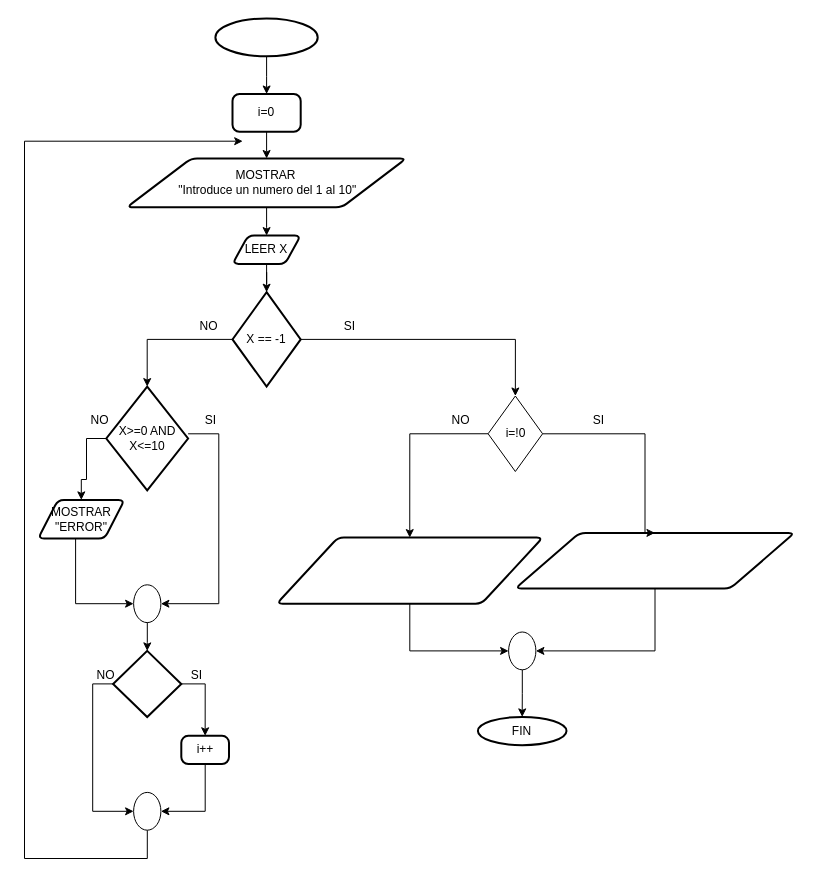
The diagram is 813 pixels wide and 884 high, and some of its shapes have lost their labels. The centre of each missing label's shape, as x and y in pixels:
INICIO: (x=266, y=37)
MOSTRAR "No se ha escrito el numero 10 al menos una vez": (x=409, y=570)
MOSTRAR "Se ha escrito el numero 10 al menos una vez": (x=654, y=560)
X == 10: (x=147, y=683)
